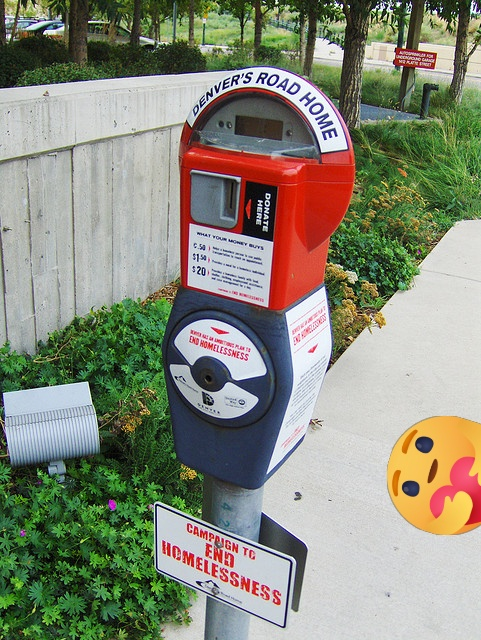care: (387, 416, 481, 535)
